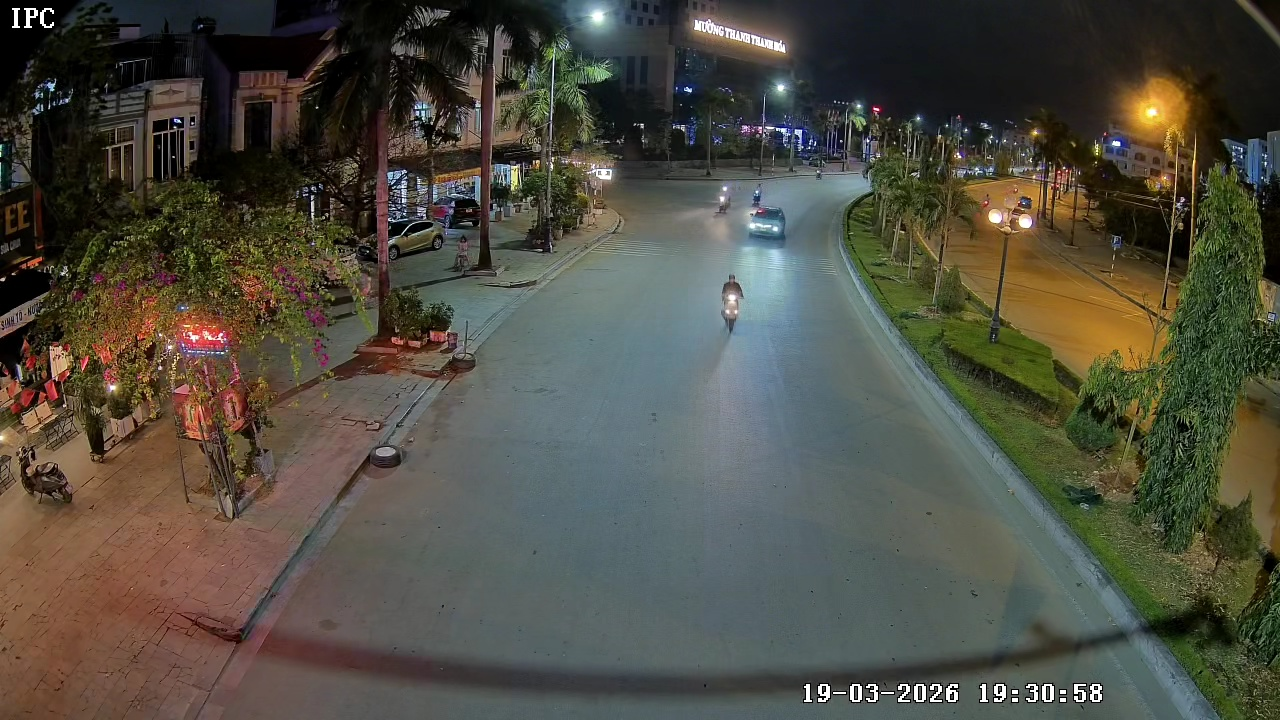car: (745, 202, 789, 243)
motorbike: (718, 272, 747, 336), (714, 183, 733, 213)
